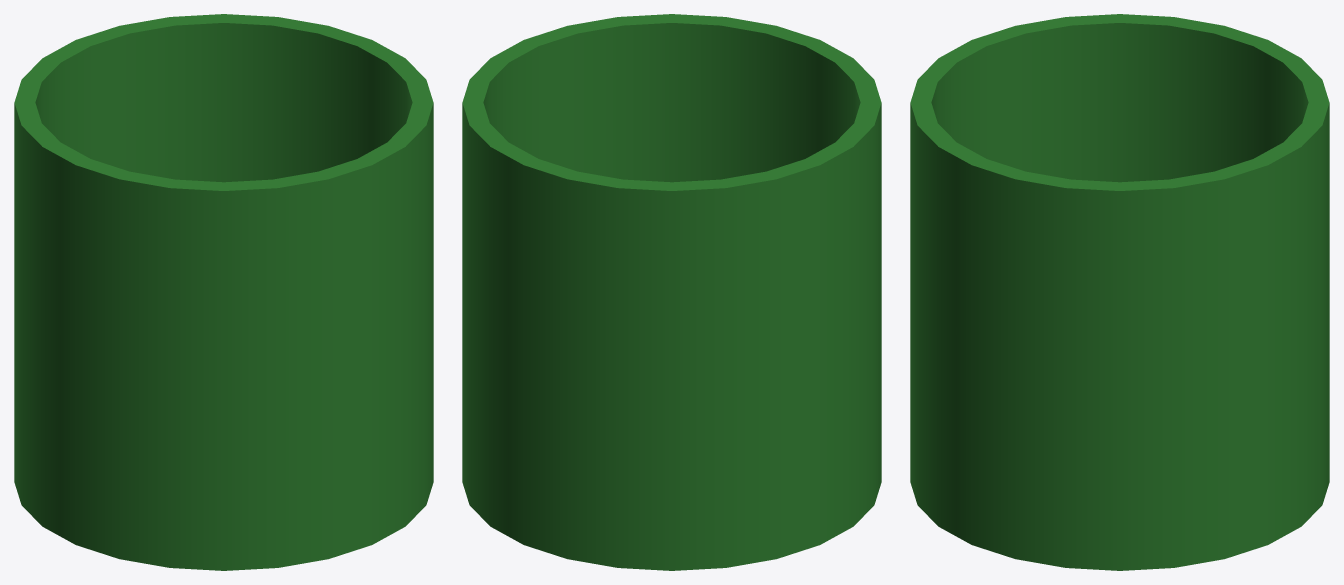
3 renders of one model, left to right at view 1: azimuth 30°, elevation 25°; view 2: azimuth 150°, elevation 25°; view 3: azimuth 270°, elevation 25°, orthographic.
Visible parts, largest first — view 1: Group1; view 2: Group1; view 3: Group1.
Boxes of the visible parts, <box> form: Group1: <box>14,14,433,570</box>; Group1: <box>462,14,881,570</box>; Group1: <box>910,14,1329,570</box>.
Bounding box in the file's own units: 1 × 1 × 1.
